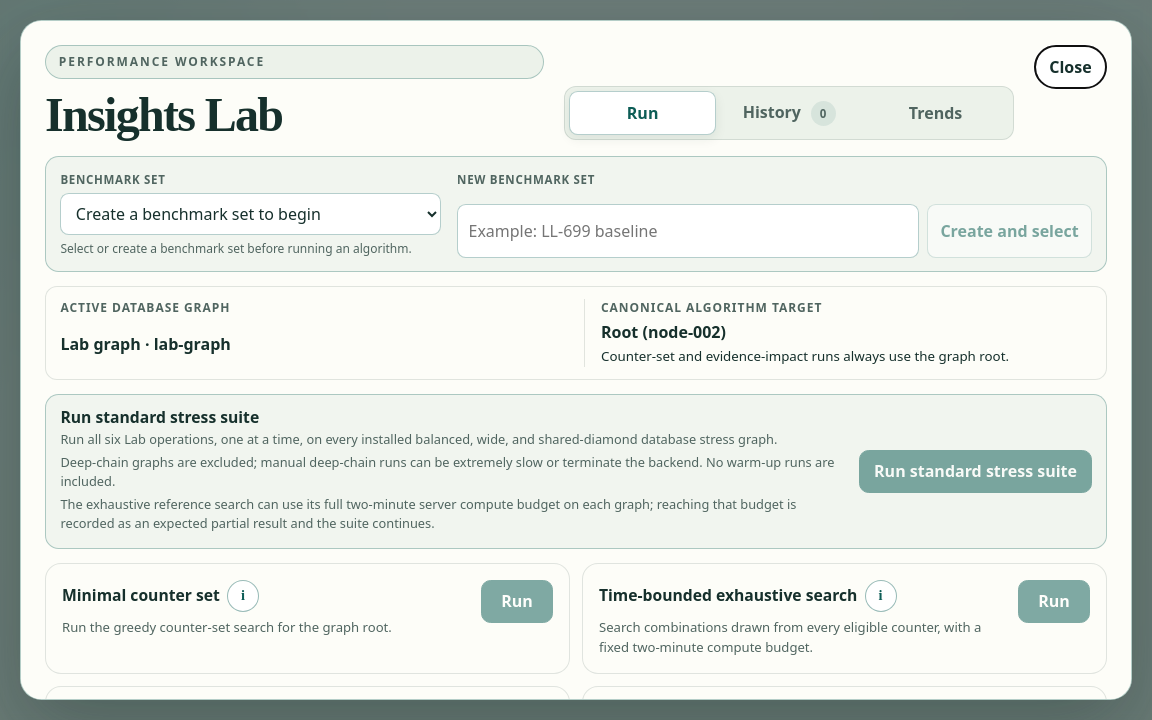
Scenario: InsightsLabDialog › does not imply that a candidate set was evaluated when preparation uses the time budget
Click the tab "History 0" at [789, 113], box [716, 91, 862, 135]
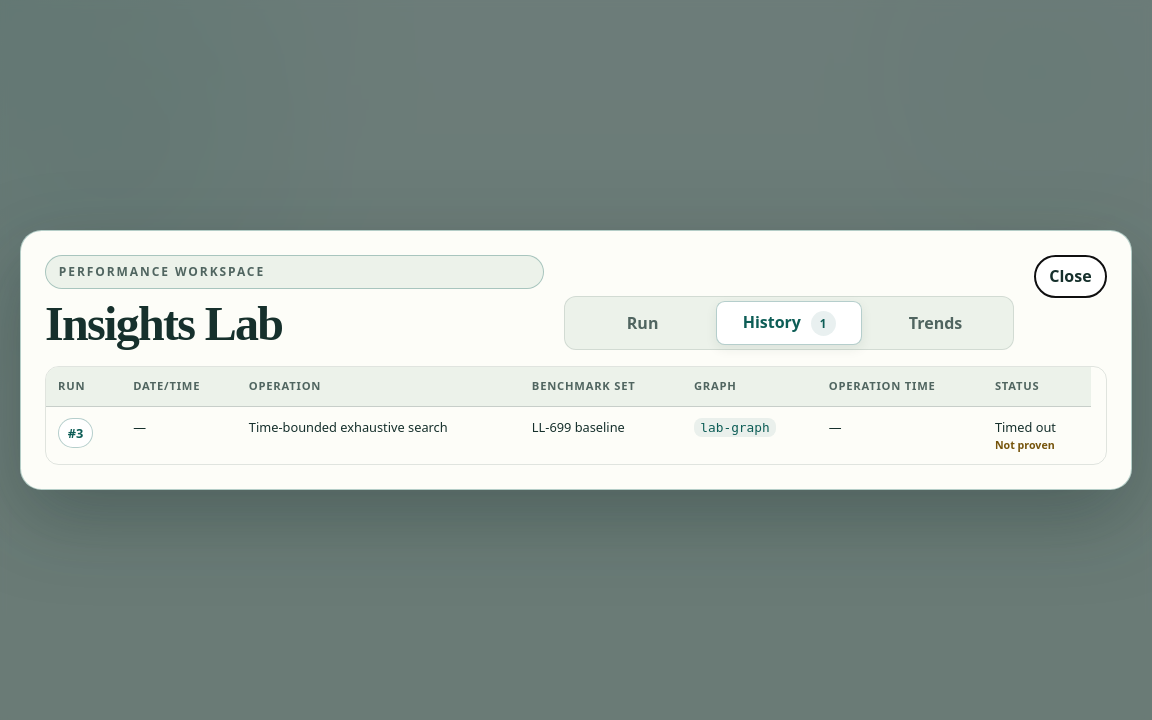
Click the button named "View run 3" at [76, 433], box [58, 418, 93, 448]
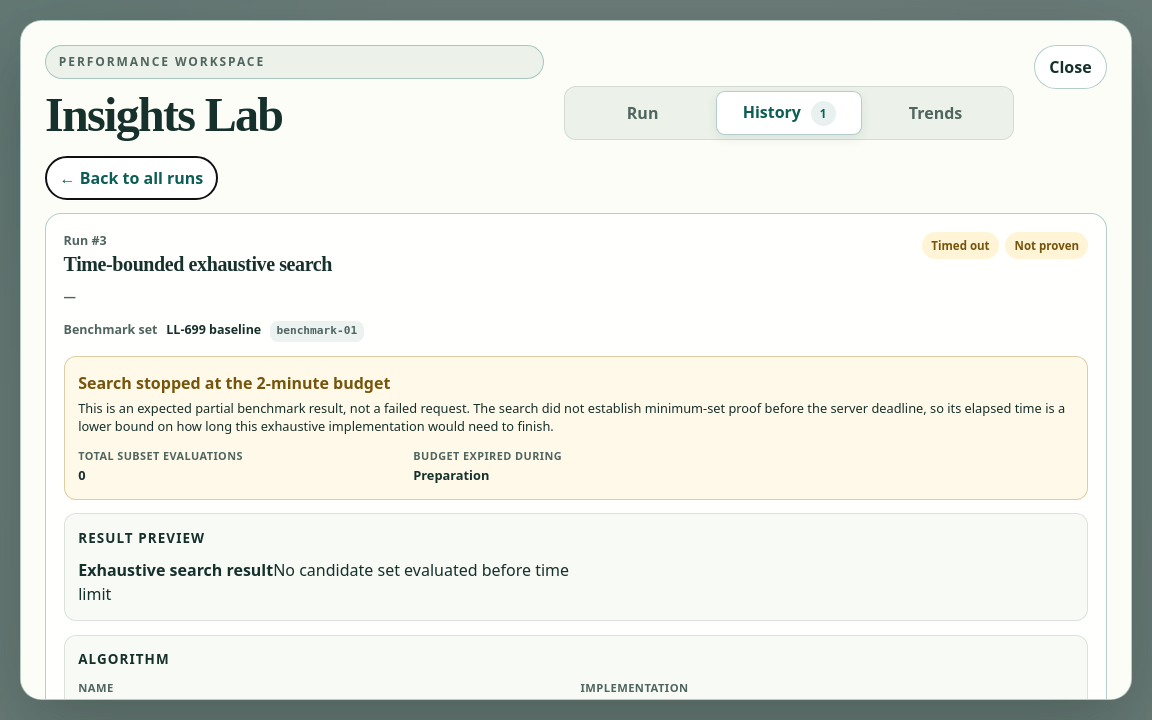
Expected: the text "No candidate set evaluated before time limit" is shown, [78, 559, 569, 605]
